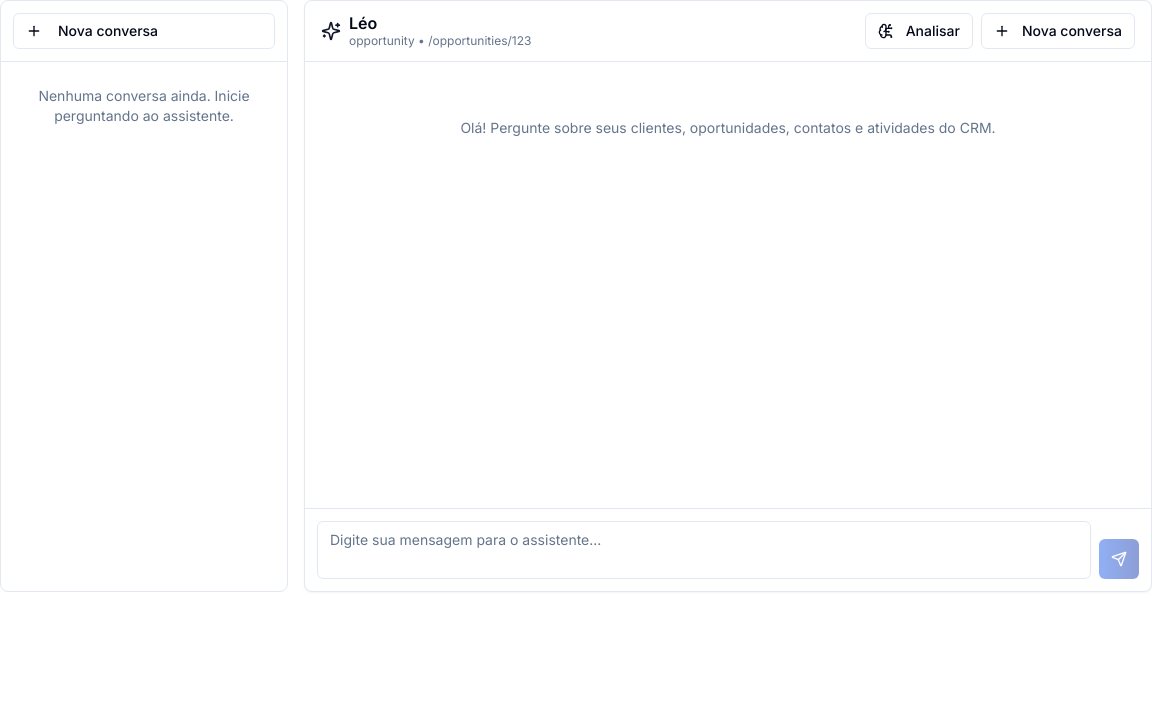
Test case: AiChatAssistant análise contextual (AI-06) › não confirma nenhuma ação automaticamente após a análise
The image size is (1152, 720).
Click the button with aria-label "Analisar o registro atual" at (919, 31), box [865,13,973,49]
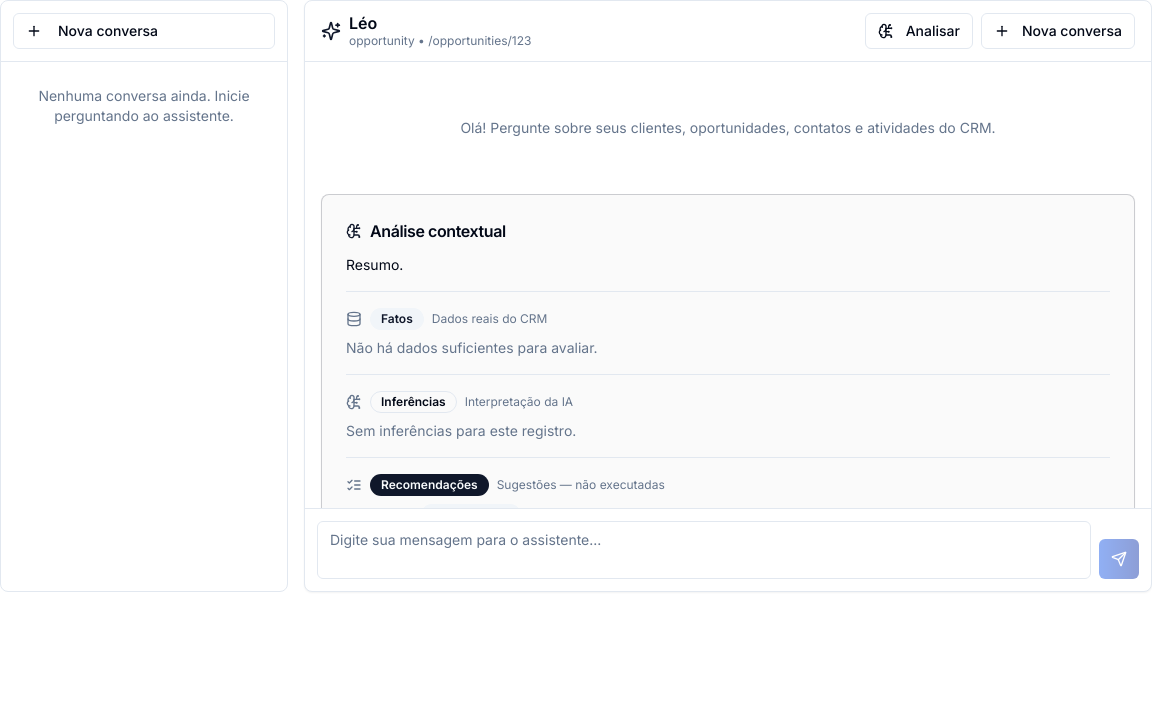
Check: the text "Resumo." is shown, box [346,256,403,273]
